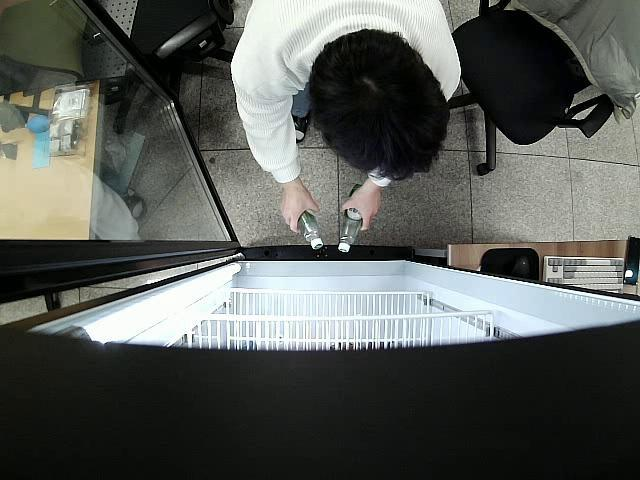18_trevi: (338, 184, 362, 255), (296, 210, 324, 251)
